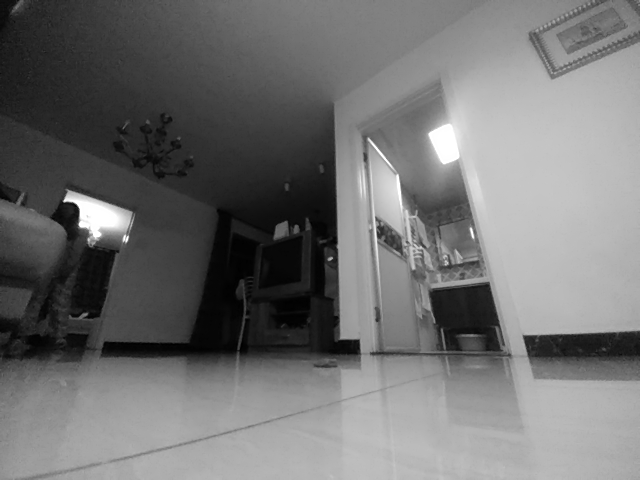curtain: (188, 206, 233, 356)
pet feces: (312, 355, 339, 369)
